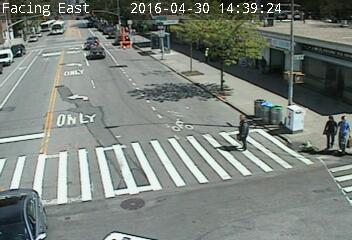neg: (3, 120, 60, 196), (71, 36, 105, 82), (165, 107, 197, 149), (41, 19, 54, 36), (62, 24, 73, 39)
